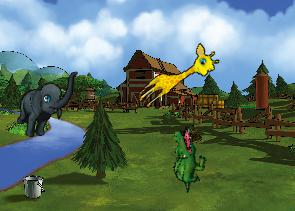crocodile: (157, 124, 216, 193)
elephant: (15, 66, 78, 141)
giraffe: (133, 39, 223, 118)
